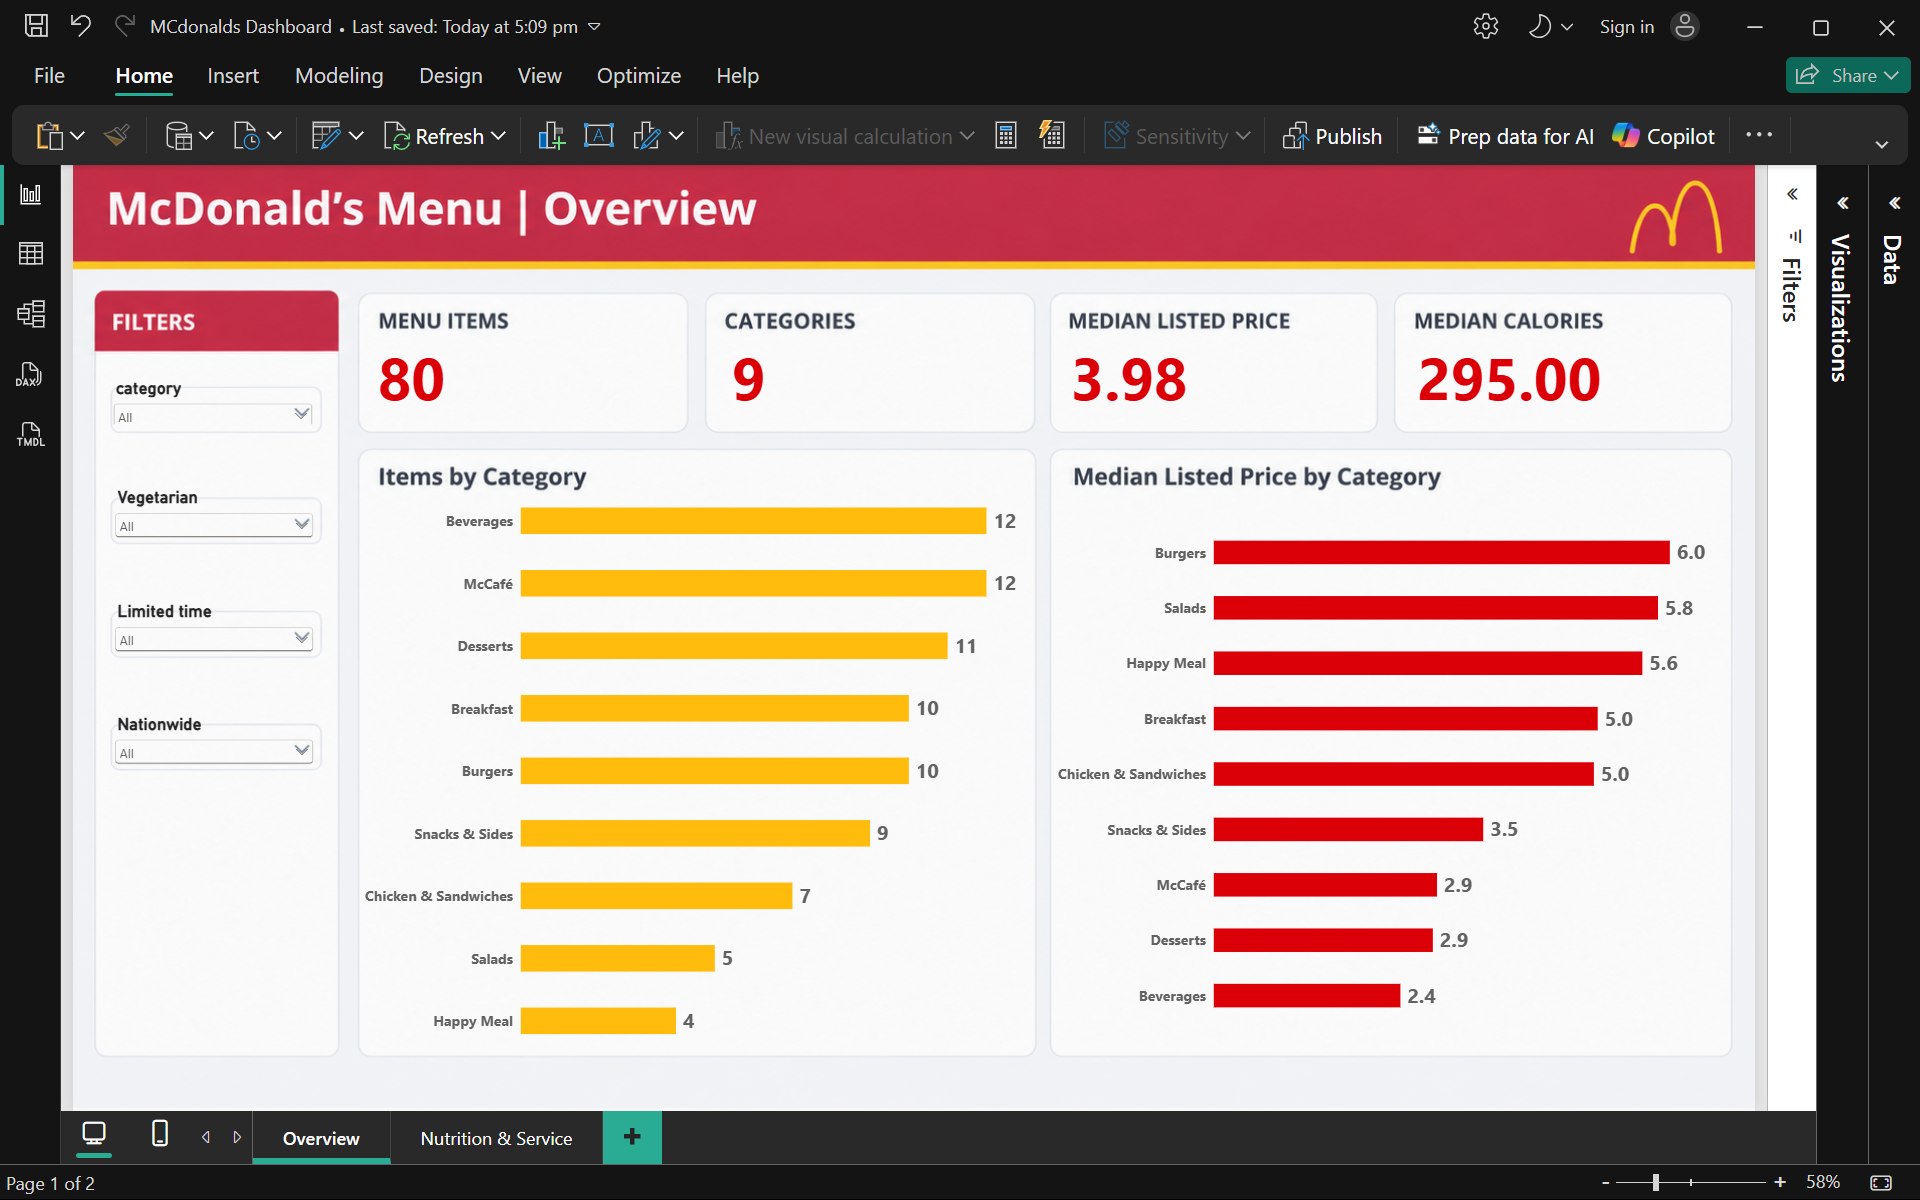

This screenshot's page, from the dashboard's own definition file:
{"tool":"powerbi","page":{"name":"Overview","canvas":[1920,1080],"ordinal":0},"visuals":[{"type":"cardVisual","fields":{"Data":["final_mcdonalds_menu.items"]},"box":[332.8,152.6,242.7,175.2],"z":0},{"type":"cardVisual","fields":{"Data":["final_mcdonalds_menu.Categories"]},"box":[735.6,152.6,242.7,175.2],"z":1000},{"type":"cardVisual","fields":{"Data":["final_mcdonalds_menu.Median_Listed_Price"]},"box":[1123.5,152.6,242.7,175.2],"z":2000},{"type":"cardVisual","fields":{"Data":["final_mcdonalds_menu.Median Calories"]},"box":[1518.8,152.6,242.7,175.2],"z":3000},{"type":"clusteredBarChart","fields":{"Category":["final_mcdonalds_menu.category"],"Y":["CountNonNull(final_mcdonalds_menu.category)"]},"box":[332.8,355.3,745.7,668.1],"z":4000},{"type":"clusteredBarChart","fields":{"Y":["Median(final_mcdonalds_menu.price_usd)"],"Category":["final_mcdonalds_menu.category"]},"box":[1123.5,395.3,740.6,593],"z":5000},{"type":"slicer","fields":{"Values":["final_mcdonalds_menu.category"]},"box":[41.8,242.4,237.1,52.9],"z":6000},{"type":"slicer","fields":{"Values":["final_mcdonalds_menu.is_vegetarian"]},"box":[42.5,368.3,236.2,61.3],"z":6001},{"type":"slicer","fields":{"Values":["final_mcdonalds_menu.is_limited_time"]},"box":[42.9,497.9,236.2,61.3],"z":6002},{"type":"slicer","fields":{"Values":["final_mcdonalds_menu.is_nationwide"]},"box":[42.1,626.4,236.4,61.4],"z":6003}]}

Visuals, with their boxes on the page's 1920x1080 design canvas (x1, y1, x2, y2). These are canvas units, not pixel positions in the 1920x1200 screenshot, which may show the page scaled, cropped or inside an application window:
cardVisual - final_mcdonalds_menu.items: box=[333, 153, 576, 328]
cardVisual - final_mcdonalds_menu.Categories: box=[736, 153, 978, 328]
cardVisual - final_mcdonalds_menu.Median_Listed_Price: box=[1124, 153, 1366, 328]
cardVisual - final_mcdonalds_menu.Median Calories: box=[1519, 153, 1762, 328]
clusteredBarChart - final_mcdonalds_menu.category x CountNonNull(final_mcdonalds_menu.category): box=[333, 355, 1078, 1023]
clusteredBarChart - Median(final_mcdonalds_menu.price_usd) x final_mcdonalds_menu.category: box=[1124, 395, 1864, 988]
slicer - final_mcdonalds_menu.category: box=[42, 242, 279, 295]
slicer - final_mcdonalds_menu.is_vegetarian: box=[42, 368, 279, 430]
slicer - final_mcdonalds_menu.is_limited_time: box=[43, 498, 279, 559]
slicer - final_mcdonalds_menu.is_nationwide: box=[42, 626, 278, 688]
